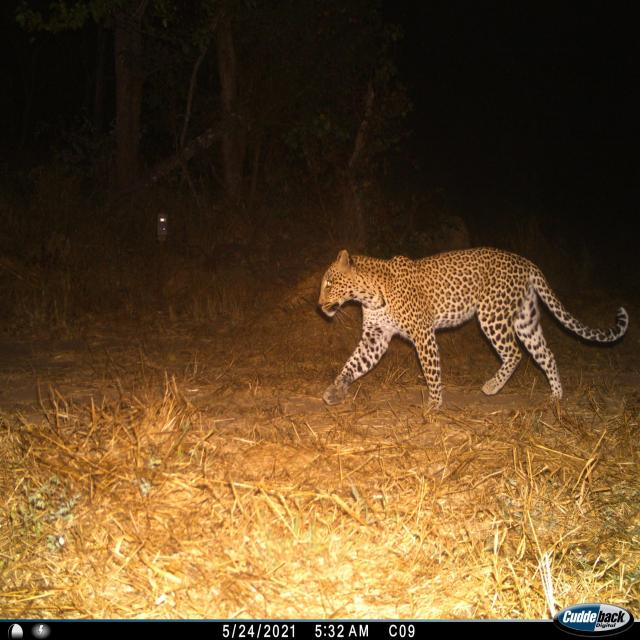Leopard: (297, 235, 640, 415)
